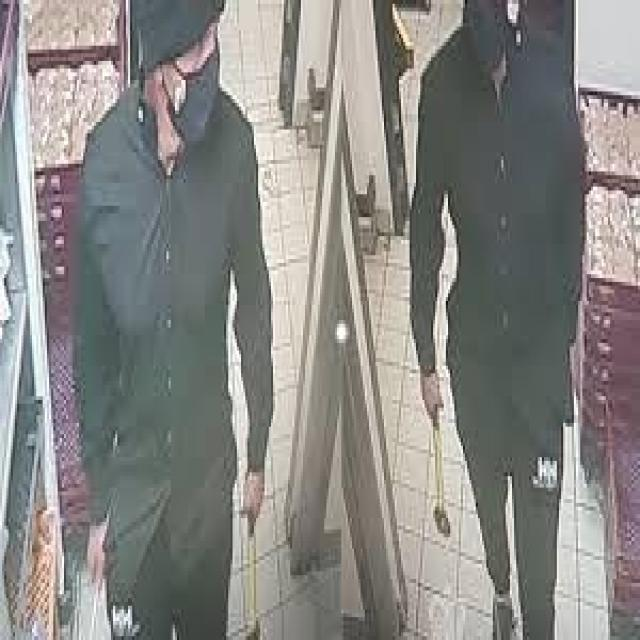weapon: (412, 373, 467, 545), (235, 483, 292, 632), (81, 579, 102, 636)
